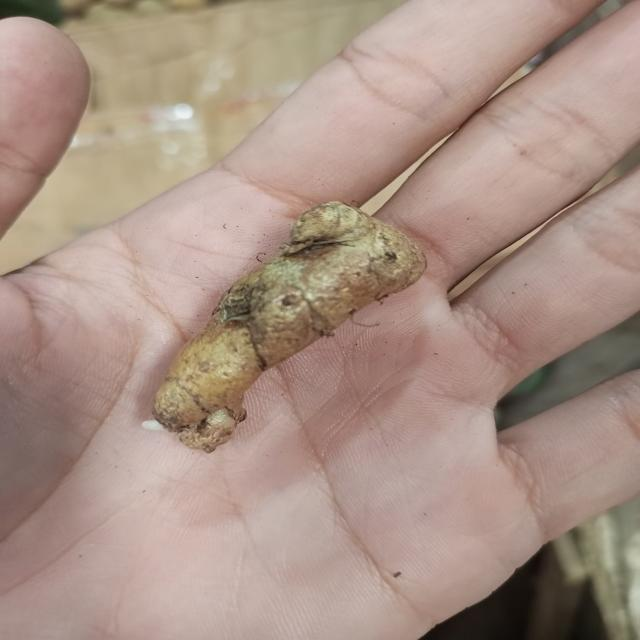ginger: (152, 208, 414, 436)
